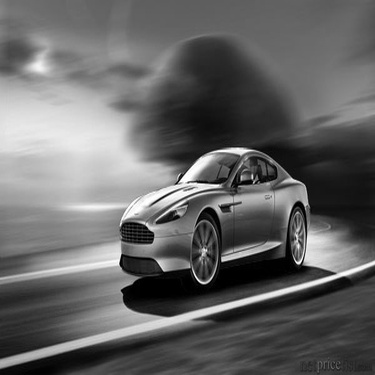car: (114, 141, 315, 292)
